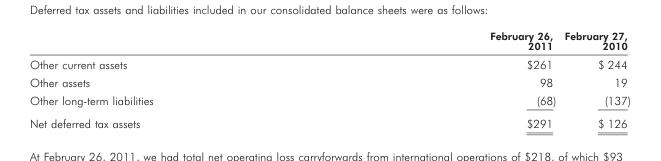table: (28, 29, 629, 129)
table column: (28, 29, 320, 129), (320, 29, 559, 129), (559, 29, 629, 129)
table column header: (28, 29, 629, 54)
table row: (28, 29, 629, 54), (28, 90, 629, 111), (28, 54, 629, 73), (28, 111, 629, 129), (28, 73, 629, 90)
